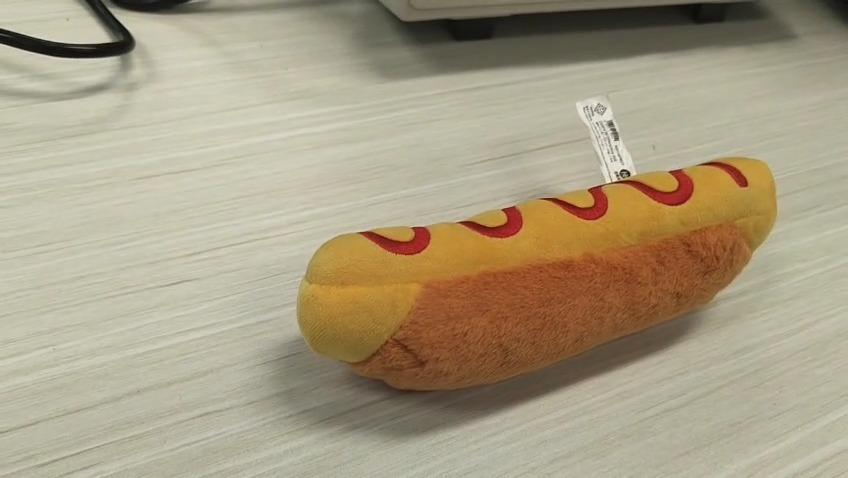hotdog: (295, 154, 777, 392)
